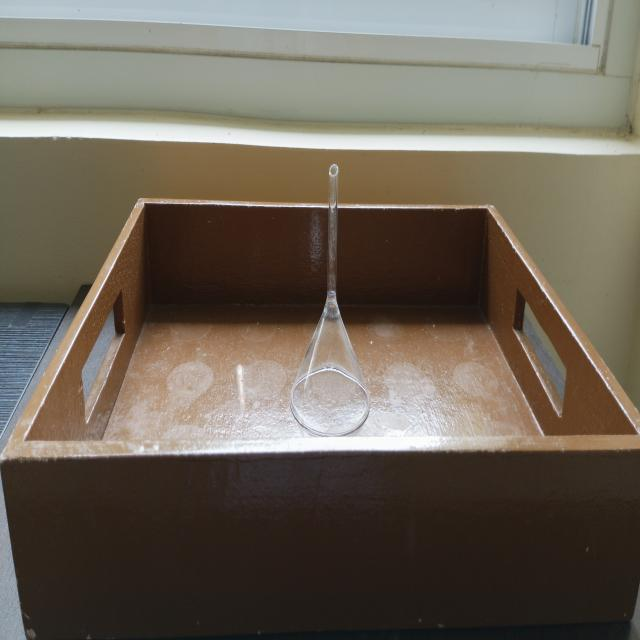funnel: (283, 159, 384, 441)
